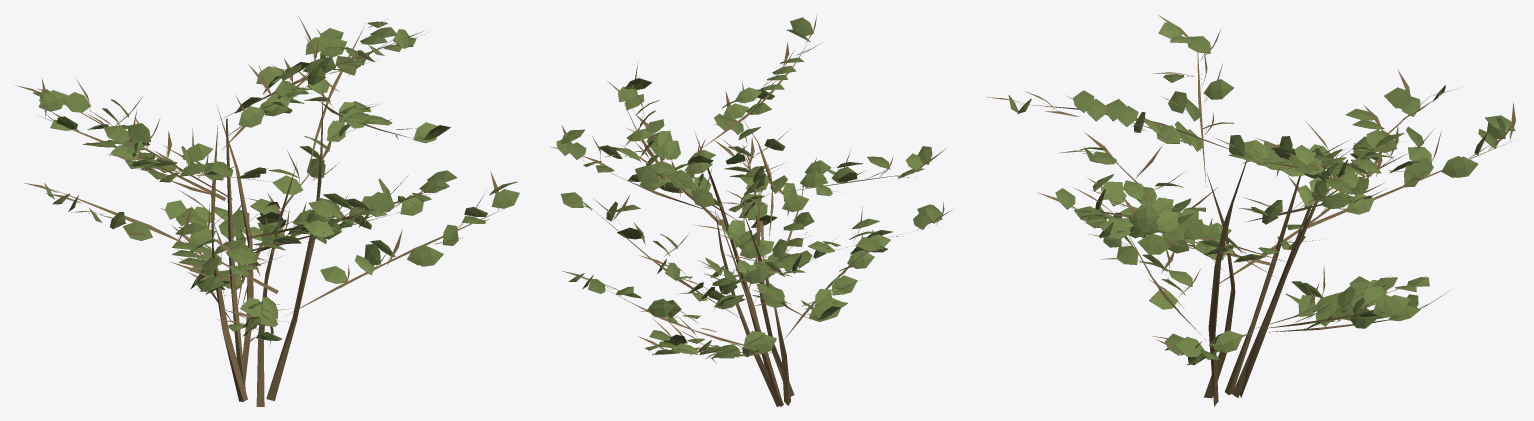
File: Lentisque_2_LOD2.fbx
3 renders of one model, left to right at view 1: azimuth 30°, elevation 25°; view 2: azimuth 150°, elevation 25°; view 3: azimuth 270°, elevation 25°, orthographic. The views are drawn at different scales.
Parts seen in each view (by area): view 1: Lentisque_2_LOD2; view 2: Lentisque_2_LOD2; view 3: Lentisque_2_LOD2.
Boxes of the visible parts, x1=… form: Lentisque_2_LOD2: x1=15, y1=16, x2=519, y2=406; Lentisque_2_LOD2: x1=550, y1=15, x2=953, y2=406; Lentisque_2_LOD2: x1=987, y1=14, x2=1515, y2=406.
Size of the model in its own units: 265 by 208 by 290.
